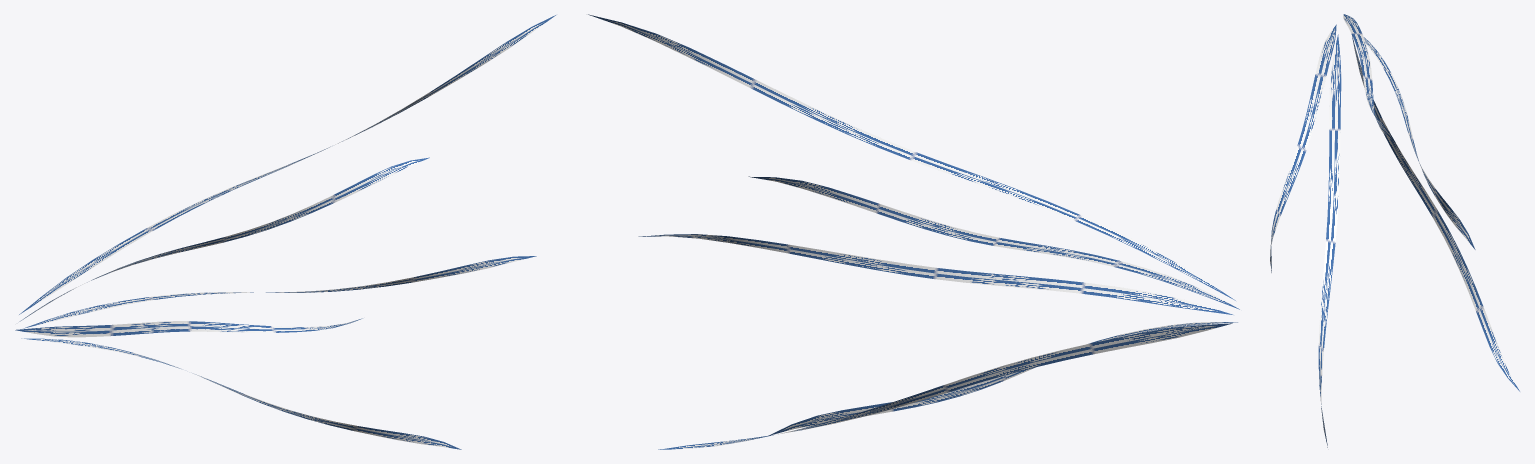
Rendered from Rui_WebLine2.fbx.
3 renders of one model, left to right at view 1: azimuth 30°, elevation 25°; view 2: azimuth 150°, elevation 25°; view 3: azimuth 270°, elevation 25°, orthographic. The views are drawn at different scales.
Parts seen in each view (by area): view 1: SM_e_DLC_Plc_P1007_Unique_WebLine002; view 2: SM_e_DLC_Plc_P1007_Unique_WebLine002; view 3: SM_e_DLC_Plc_P1007_Unique_WebLine002.
Part boxes in pixels (x1=…): SM_e_DLC_Plc_P1007_Unique_WebLine002: x1=15, y1=15, x2=555, y2=449; SM_e_DLC_Plc_P1007_Unique_WebLine002: x1=588, y1=14, x2=1239, y2=449; SM_e_DLC_Plc_P1007_Unique_WebLine002: x1=1270, y1=14, x2=1520, y2=447.
Size of the model in its own units: 439 by 280 by 173.
